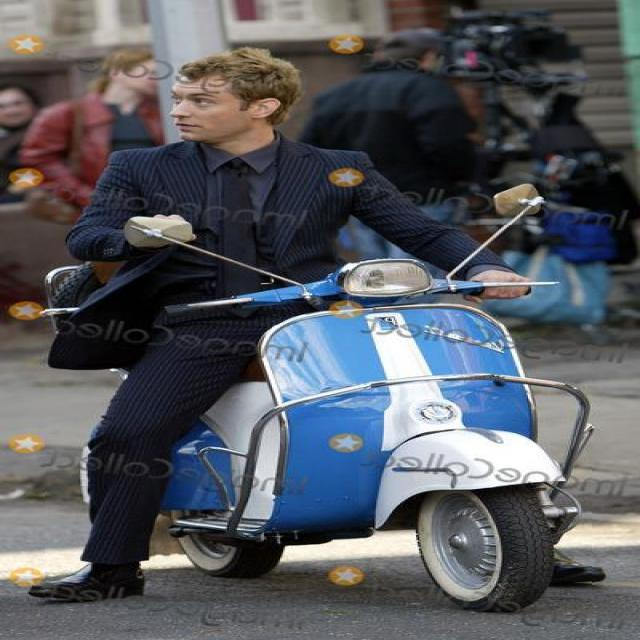Bike: (45, 225, 592, 618)
